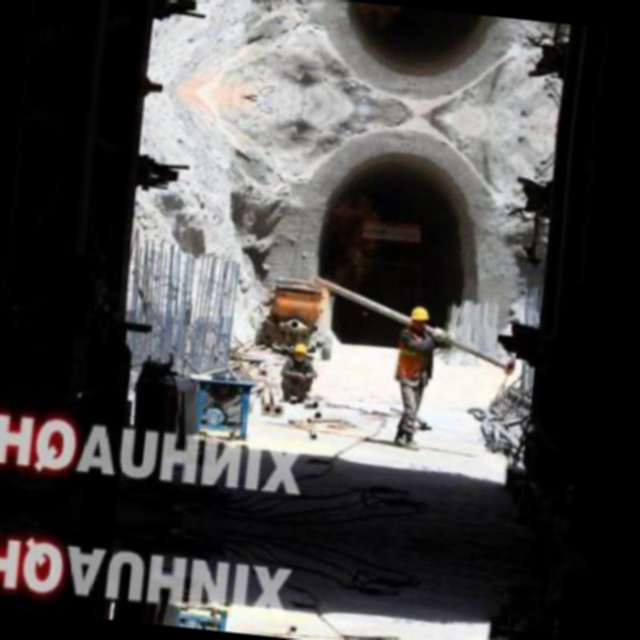helmet: (208, 292, 229, 320), (326, 341, 343, 362)
person: (195, 291, 237, 438), (314, 344, 355, 404)
